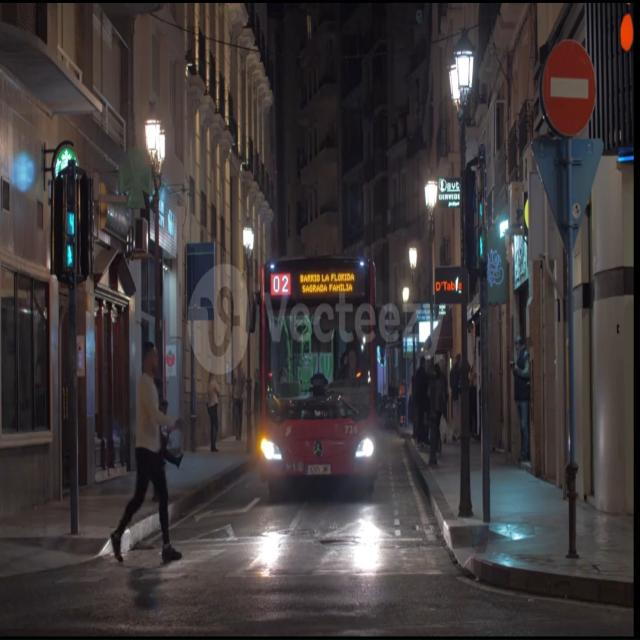pedestrian: (110, 342, 182, 562)
